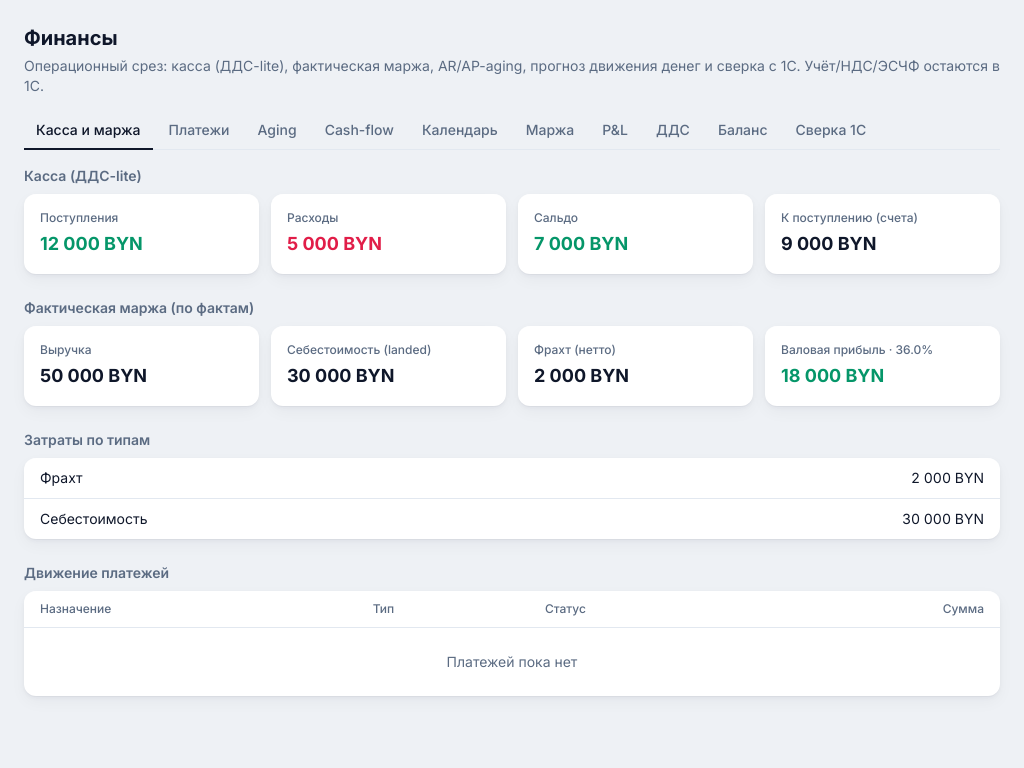
Test: FinanceView › вкладка «P&L» показывает строки отчёта и итоговую операционную прибыль
Expected: the heading "Касса (ДДС-lite)" is shown, [24, 167, 142, 184]
Click the button "P&L" at (615, 131), box [590, 112, 640, 150]
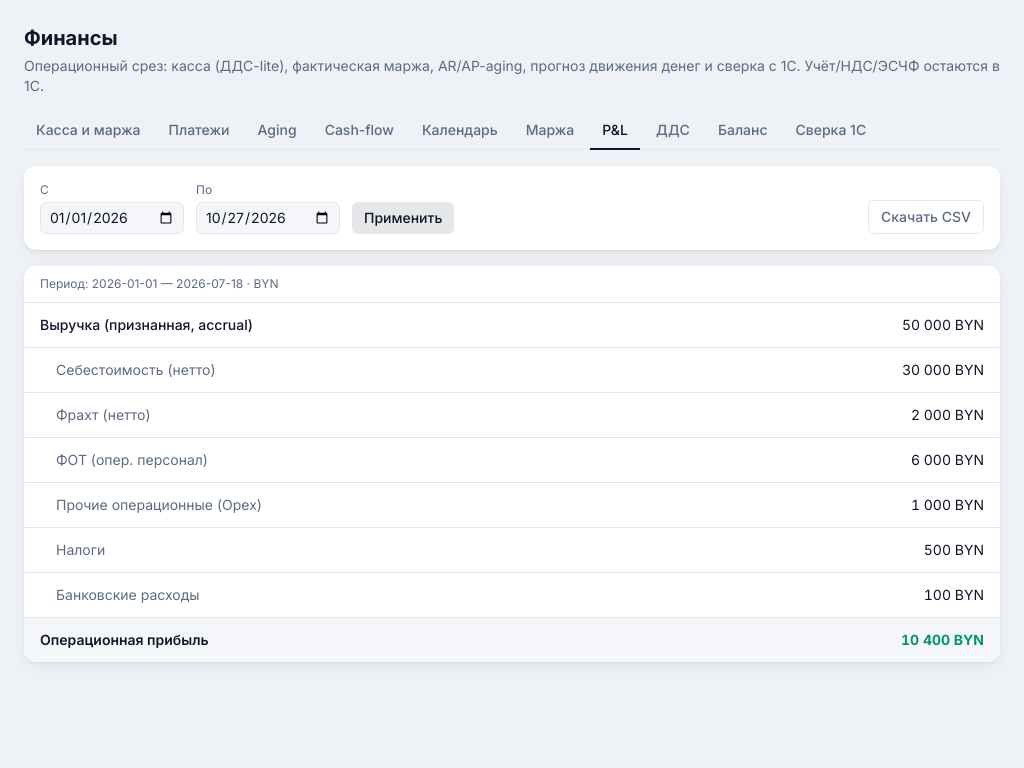
Now the text "Выручка (признанная, accrual)" is shown, box [24, 303, 696, 348]
Now the text "Операционная прибыль" is shown, box [24, 618, 696, 662]
